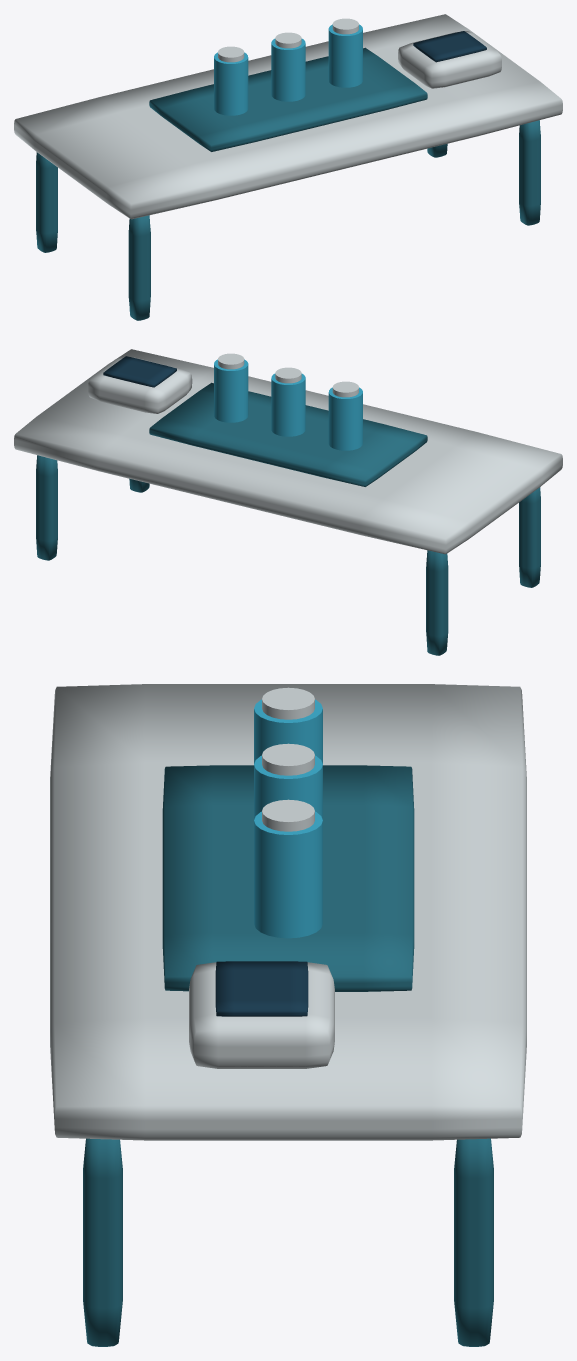
Rendered from laboratorio-mesa-central.glb.
3 renders of one model, top to bottom at view 1: azimuth 30°, elevation 25°; view 2: azimuth 150°, elevation 25°; view 3: azimuth 270°, elevation 25°, orthographic. The views are drawn at different scales.
Visible parts, largest first — view 1: Blanco, Petroleo, Agua, Pantalla; view 2: Blanco, Petroleo, Agua, Pantalla; view 3: Blanco, Petroleo, Agua, Pantalla.
Boxes of the visible parts, x1=… form: Blanco: x1=14, y1=14, x2=562, y2=219; Petroleo: x1=36, y1=47, x2=540, y2=320; Agua: x1=214, y1=24, x2=362, y2=115; Pantalla: x1=413, y1=31, x2=486, y2=62; Blanco: x1=14, y1=349, x2=562, y2=554; Petroleo: x1=36, y1=382, x2=540, y2=655; Agua: x1=214, y1=359, x2=362, y2=450; Pantalla: x1=103, y1=356, x2=176, y2=387; Blanco: x1=50, y1=684, x2=526, y2=1140; Petroleo: x1=83, y1=765, x2=493, y2=1346; Agua: x1=254, y1=699, x2=322, y2=938; Pantalla: x1=215, y1=961, x2=308, y2=1016.
Size of the model in its own units: 3.8 by 1.65 by 1.8.
